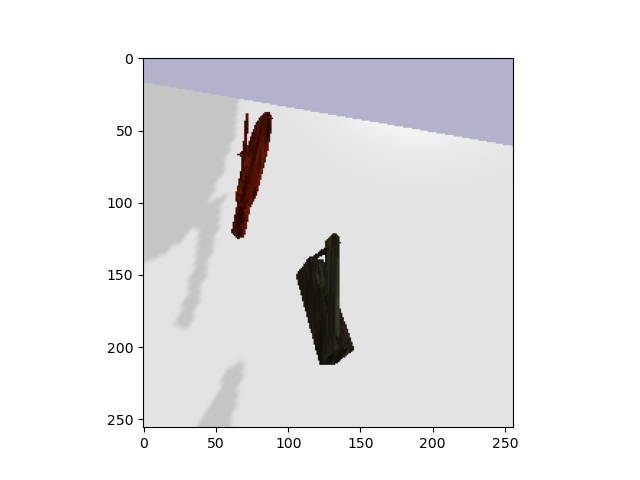v249b387_107: (229, 105, 277, 245)
v249b387_109: (288, 234, 369, 370)
